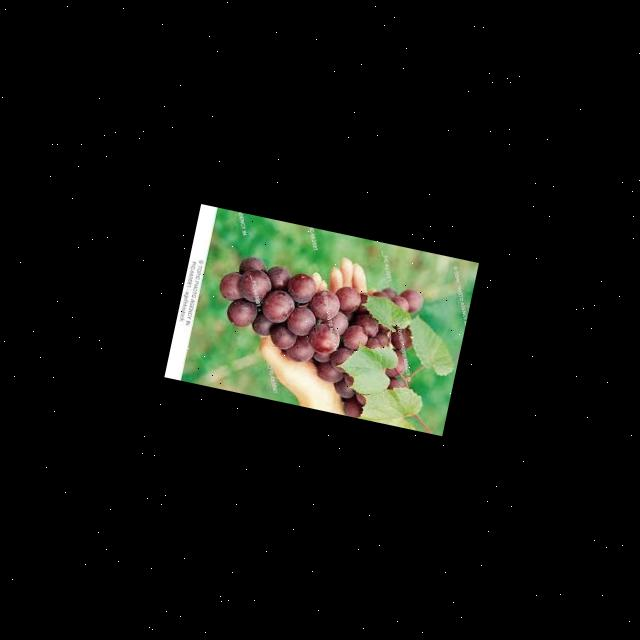grape: (198, 248, 426, 426)
